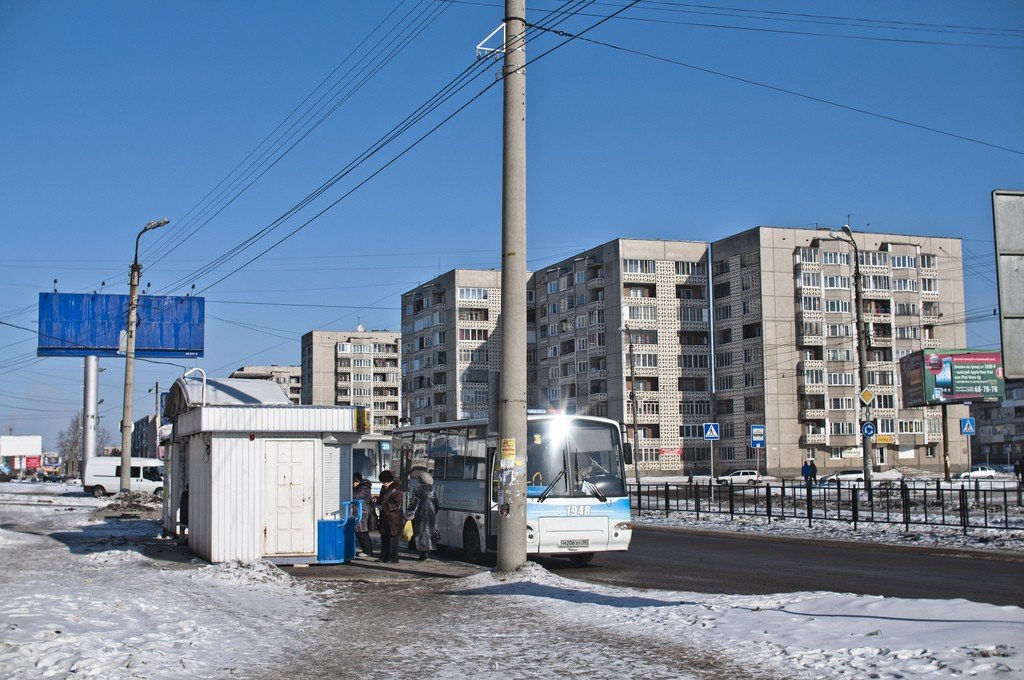sign: (749, 423, 767, 448), (701, 420, 721, 442), (958, 415, 977, 436), (858, 386, 876, 406), (860, 419, 877, 439)
